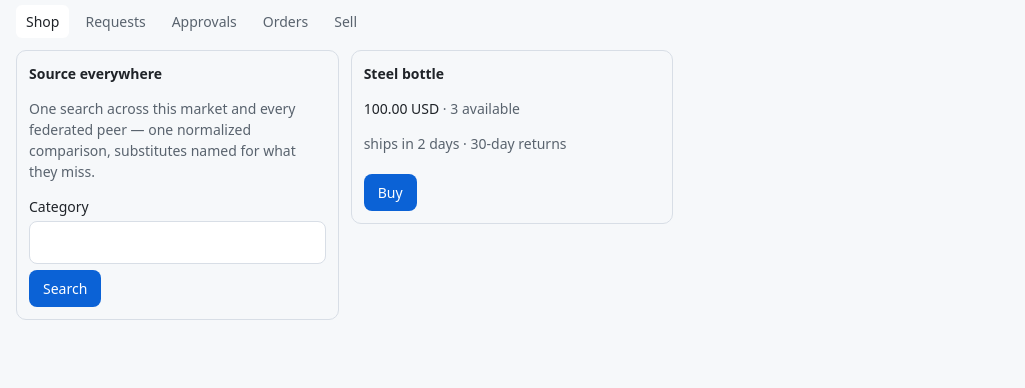
Test: Market: buying walks offer → intent → approval › mints the exact offer, binds the intent, and reports the verdict
Step 1. Click the button "Buy" → [390, 192], box left=364, top=174, right=417, bottom=211
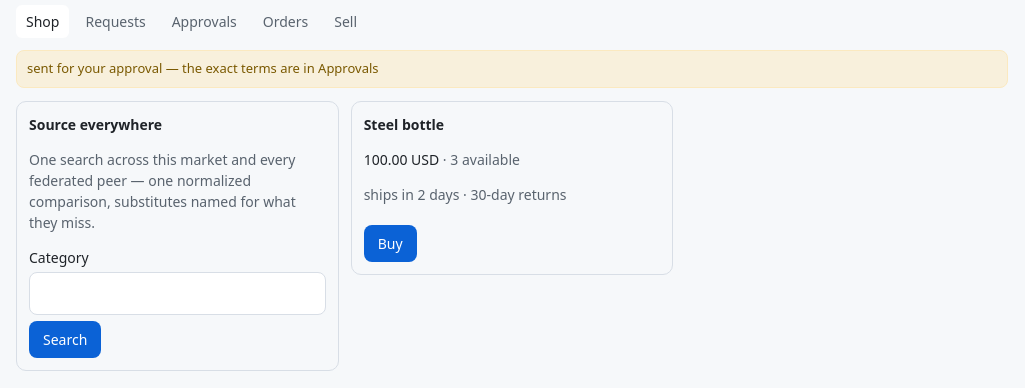
Check: the text "sent for your approval — the exact terms are in Approvals" is shown, box left=16, top=50, right=1008, bottom=88
